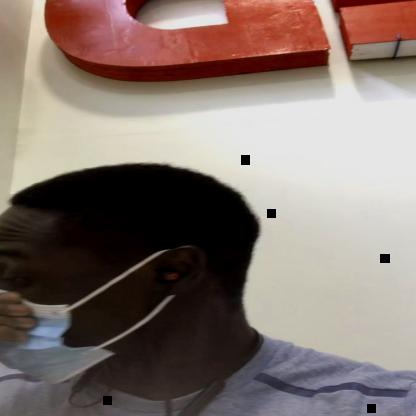mask: (0, 209, 176, 386)
